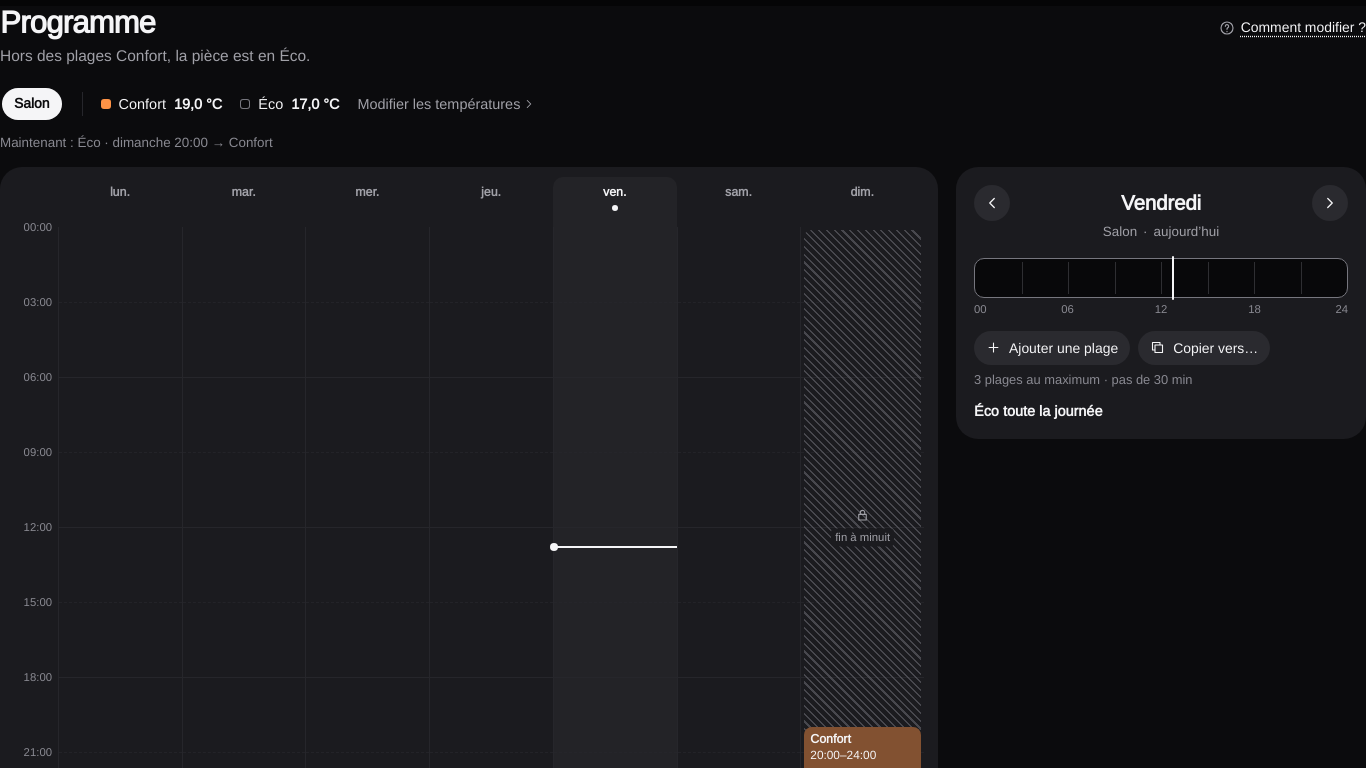
/schedule: what the page says › a locked day can be viewed in the editor but never edited, and copies skip it
Click the button with aria-label "Dimanche," at (862, 202), box [800,177,924,227]
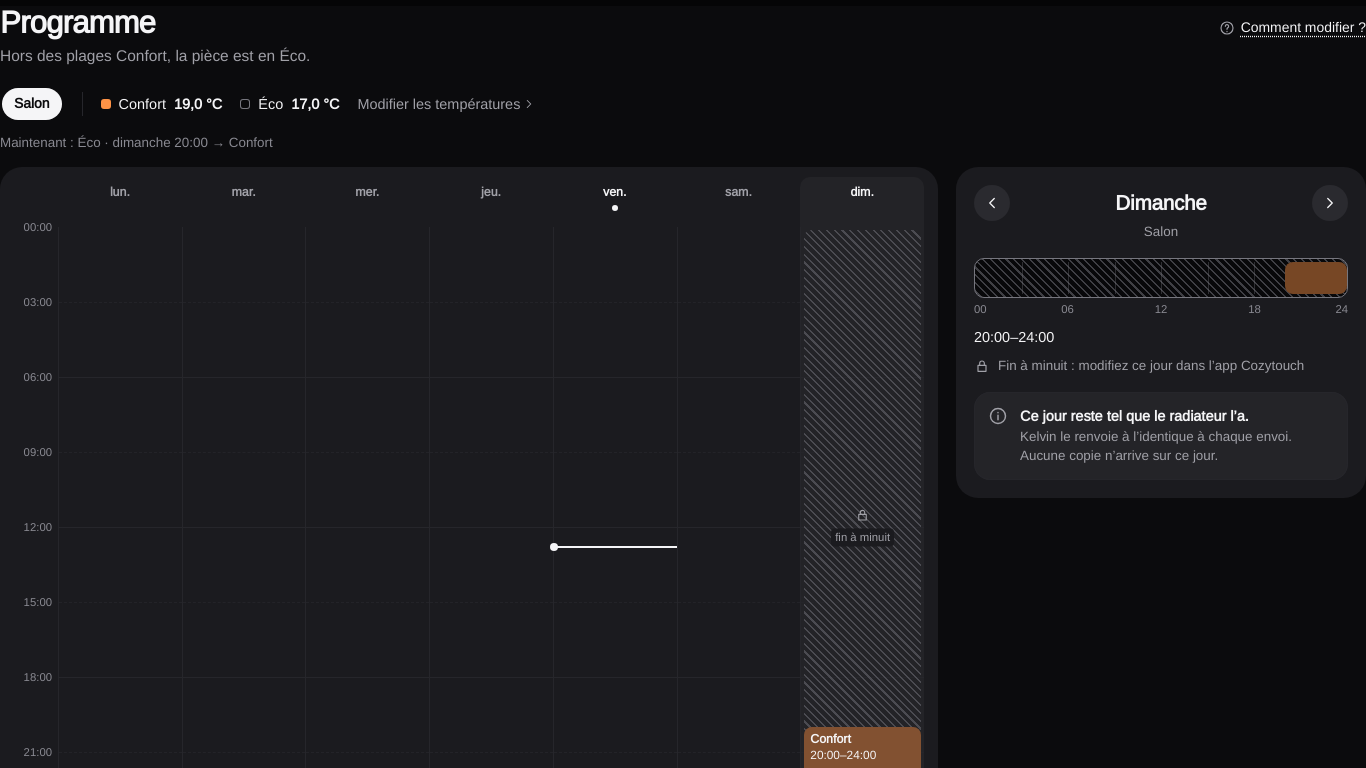
Expected: the heading "Dimanche" is shown, [1115,190,1207,216]
Expected: the button "Copier vers…" is gone
Expected: the text "Fin à minuit : modifiez ce jour dans l’app Cozytouch" is shown once, [974,357,1348,376]
Click the button with aria-label "Lundi," at (120, 202), box [58,177,182,227]
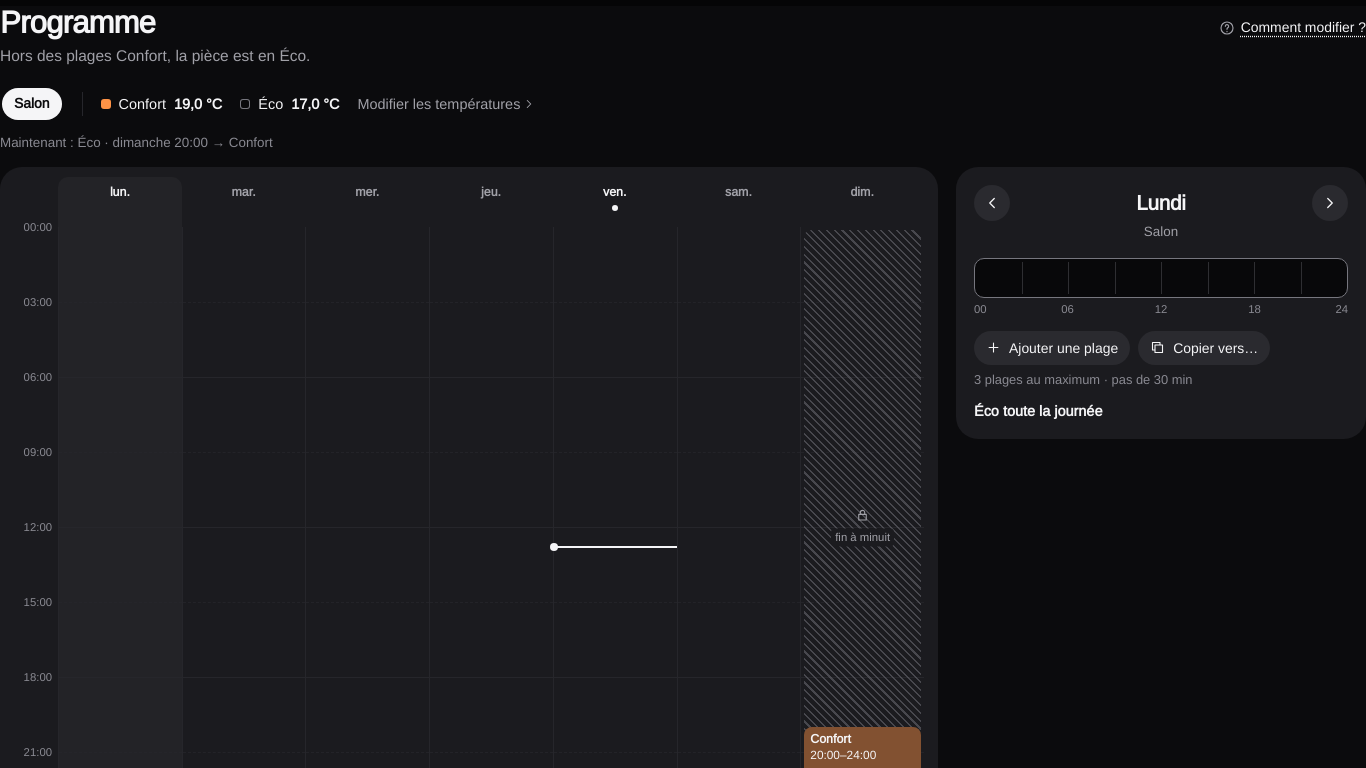
Click the button "Copier vers…" at (1204, 348), box [1138,331,1270,365]
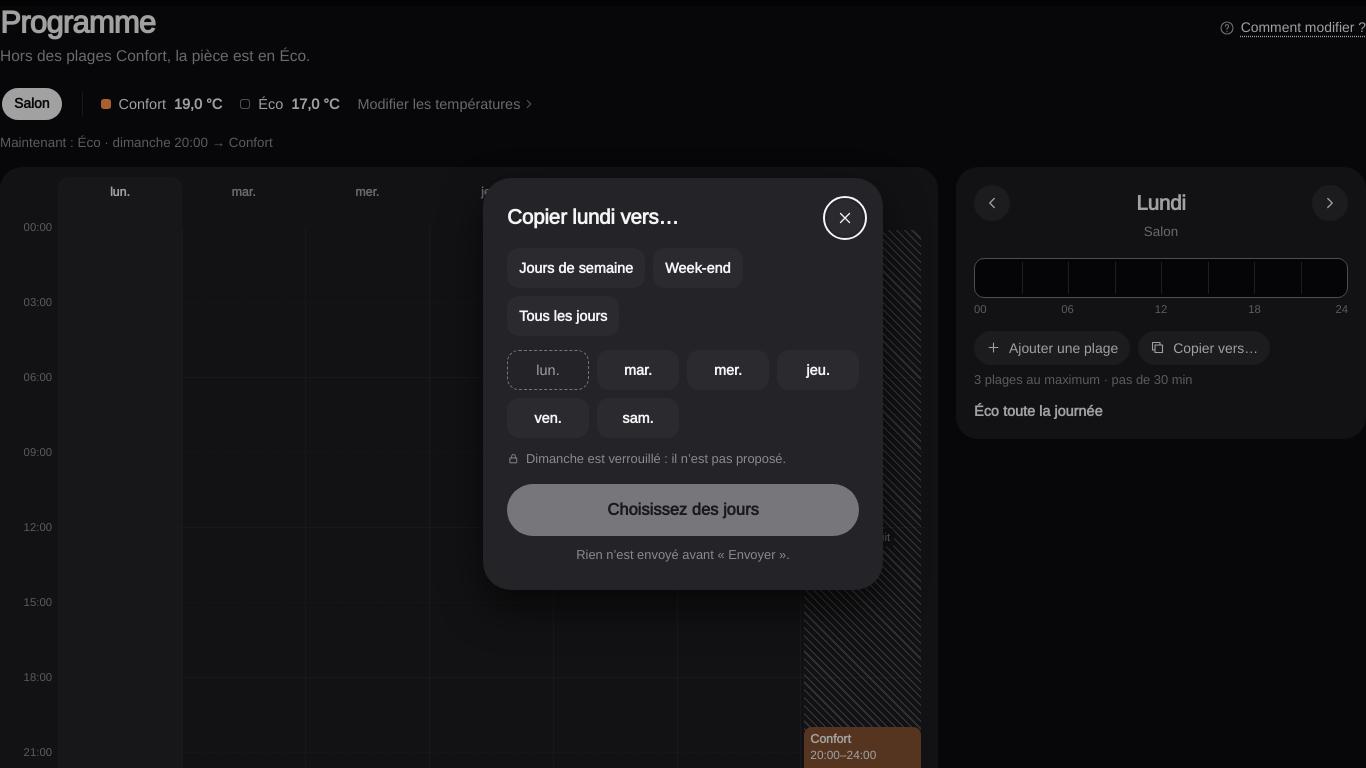
Click the button "Tous les jours" at (563, 316), box [507,296,619,336]
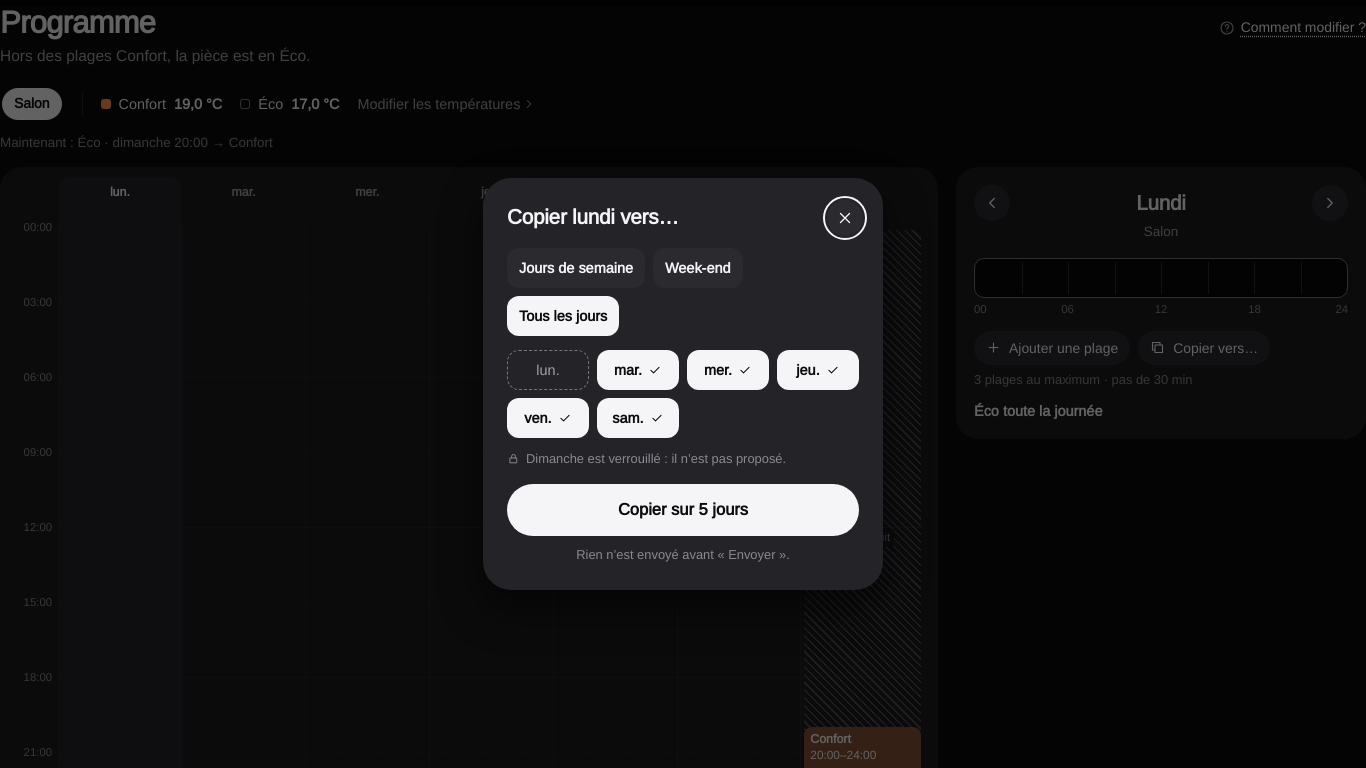
Expected: the button "Copier sur 5 jours" is shown, [507,484,859,536]
